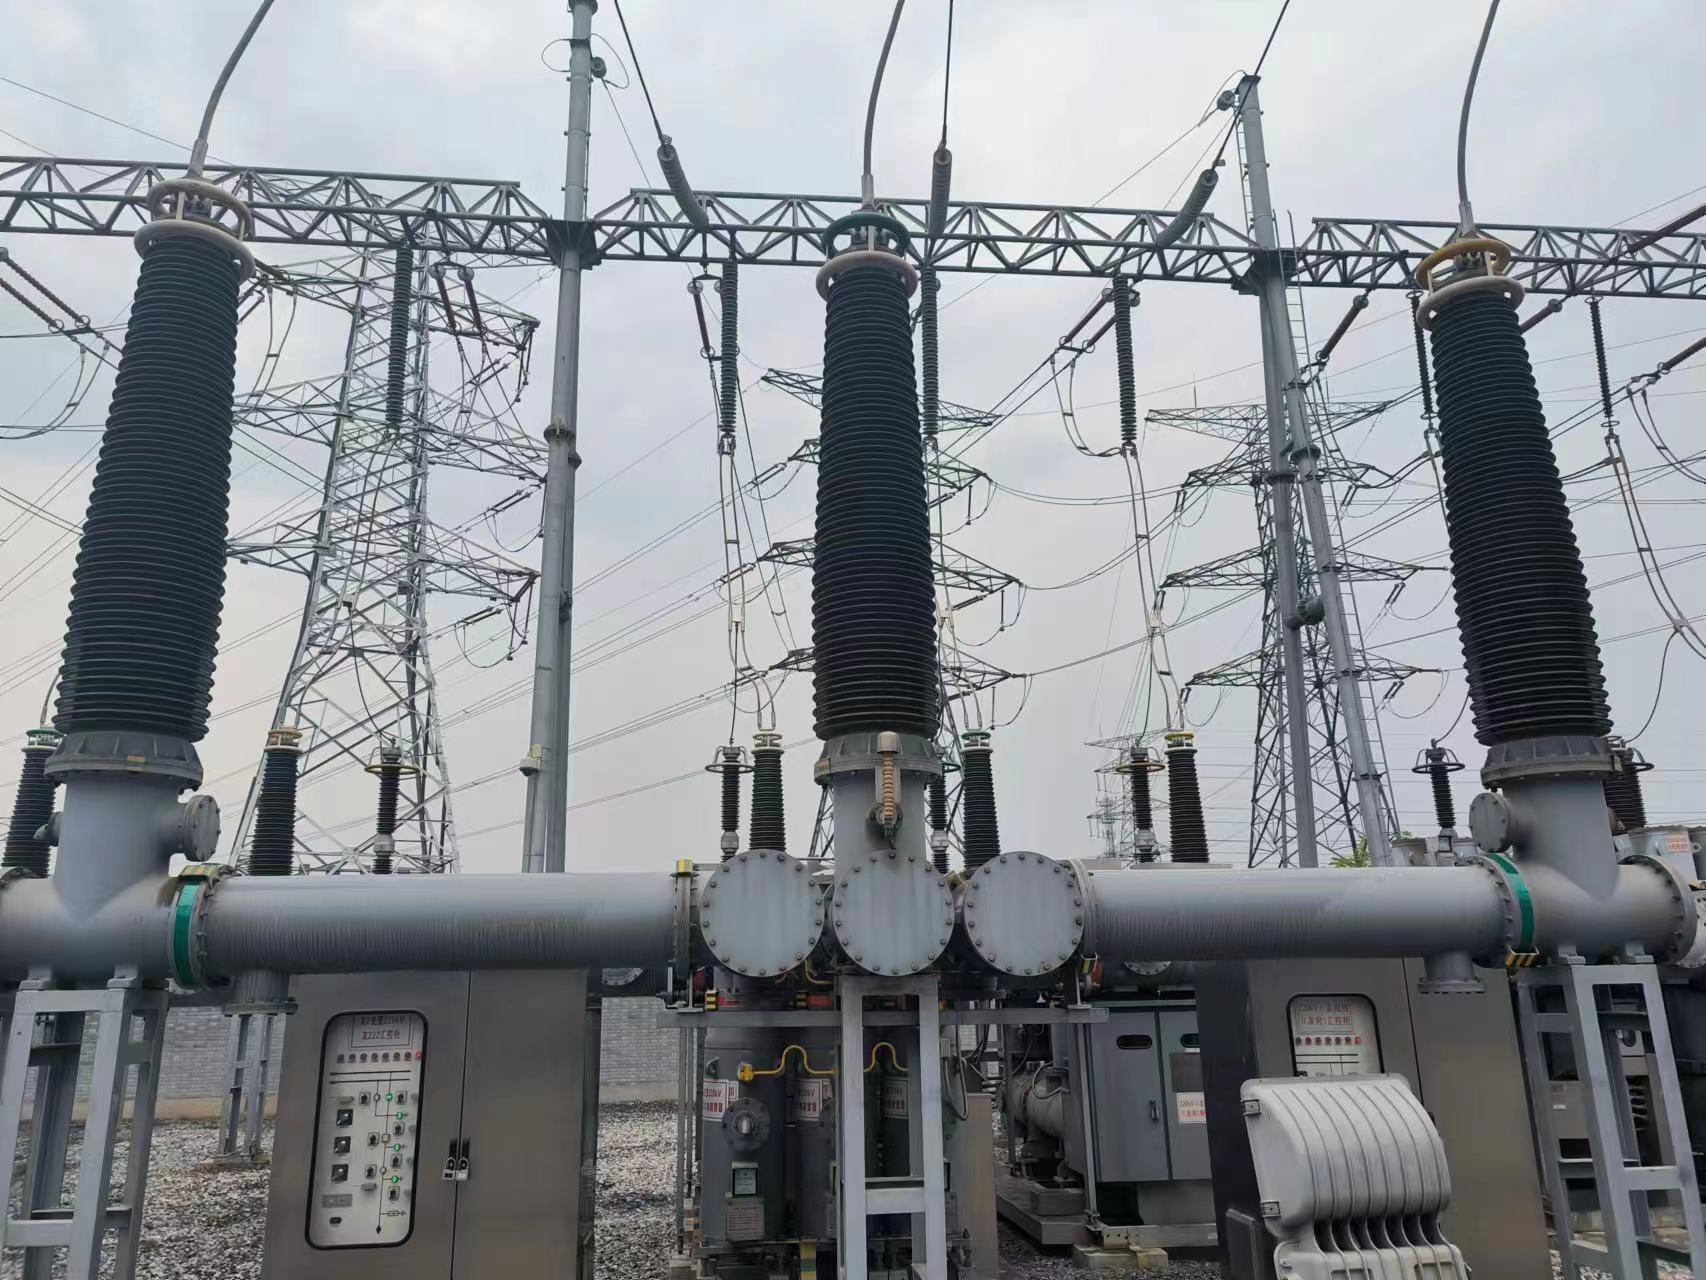Voltage transformer: (52, 173, 259, 741), (1404, 234, 1620, 745), (805, 215, 950, 741)
